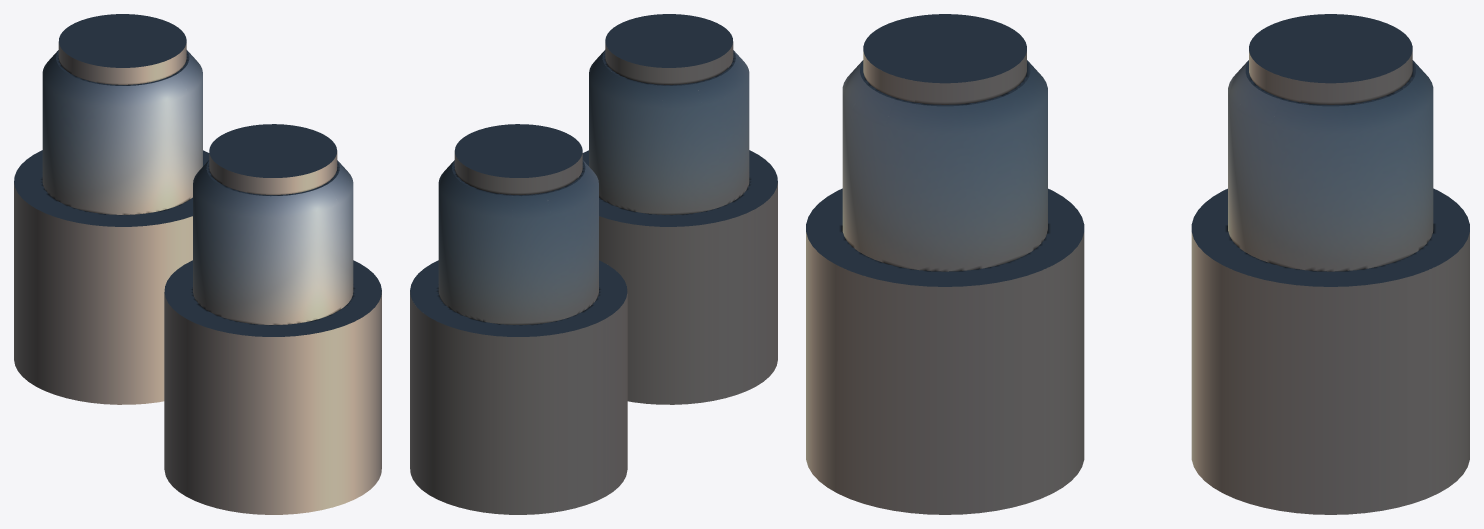
File: dizuo_4.gltf
3 renders of one model, left to right at view 1: azimuth 30°, elevation 25°; view 2: azimuth 150°, elevation 25°; view 3: azimuth 270°, elevation 25°, orthographic. The views are drawn at different scales.
Visible parts, largest first — view 1: 圆柱_1; view 2: 圆柱_1; view 3: 圆柱_1.
Boxes of the visible parts, x1=… form: 圆柱_1: x1=14, y1=14, x2=381, y2=514; 圆柱_1: x1=410, y1=14, x2=777, y2=514; 圆柱_1: x1=806, y1=14, x2=1469, y2=514.
Bounding box in the file's own units: 1.66 × 2.68 × 3.96.
1 material, 1 textured.
